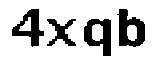4: (8, 3, 47, 51)
b: (116, 5, 146, 54)
q: (84, 17, 114, 58)
x: (45, 15, 81, 51)
